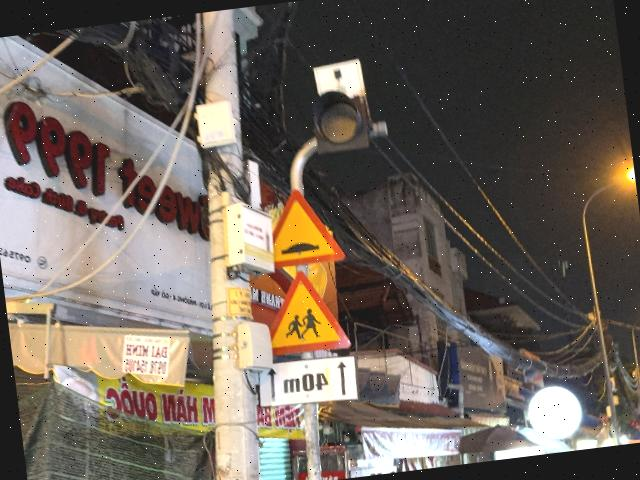duong-co-go-giam-toc: (264, 184, 345, 268)
tre-em-qua-duong: (262, 266, 351, 358)
